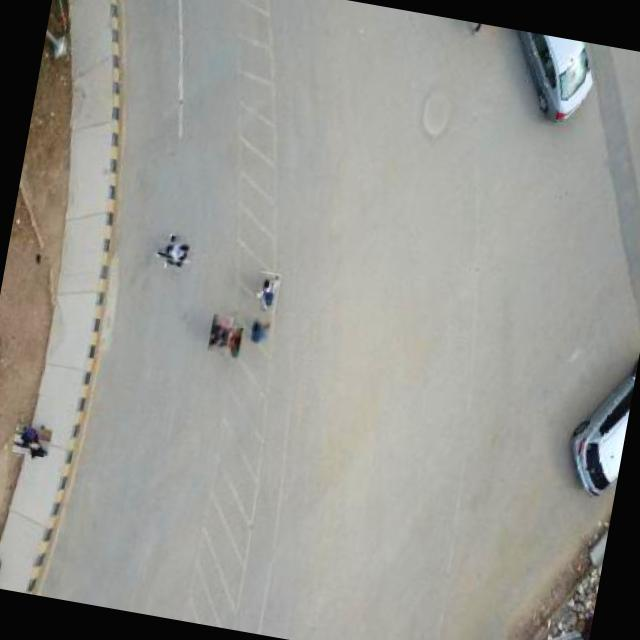Person: (12, 422, 51, 461), (156, 233, 192, 269), (252, 270, 280, 314), (206, 313, 234, 355), (220, 324, 242, 358), (248, 316, 271, 345)
